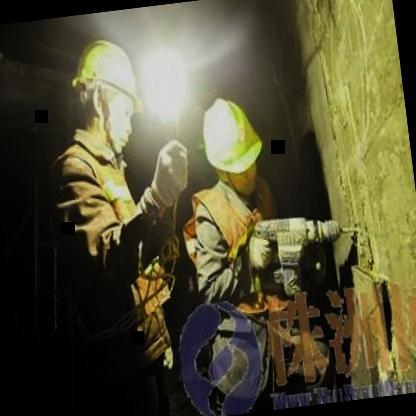helmet: (65, 32, 150, 166), (196, 90, 270, 208)
